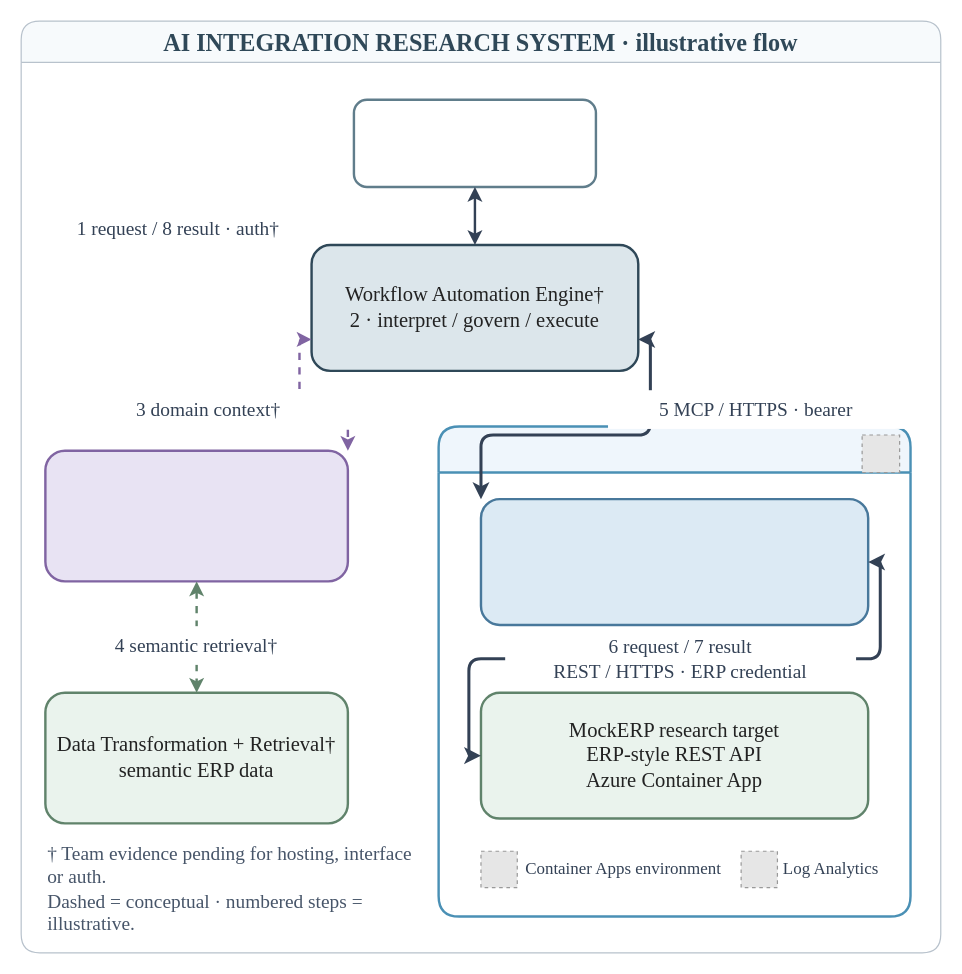
Some shapes in this 962 by 974 pixel diagram are drawn without their labels. Grey dashed boxes stand in for pictures. The shapes that lost their labels are listed below. From the top down, each one's box as (x1, y1, x2, y2) in pixels, then its label:
(352, 98, 597, 188): User / client natural-language request
(44, 449, 348, 582): Fine-Tuned LLM + RAG† domain and policy context
(479, 497, 869, 626): ERPBridge Server MCP gateway · REST integration Azure Container App
(437, 425, 911, 917): Documented Azure resource group
